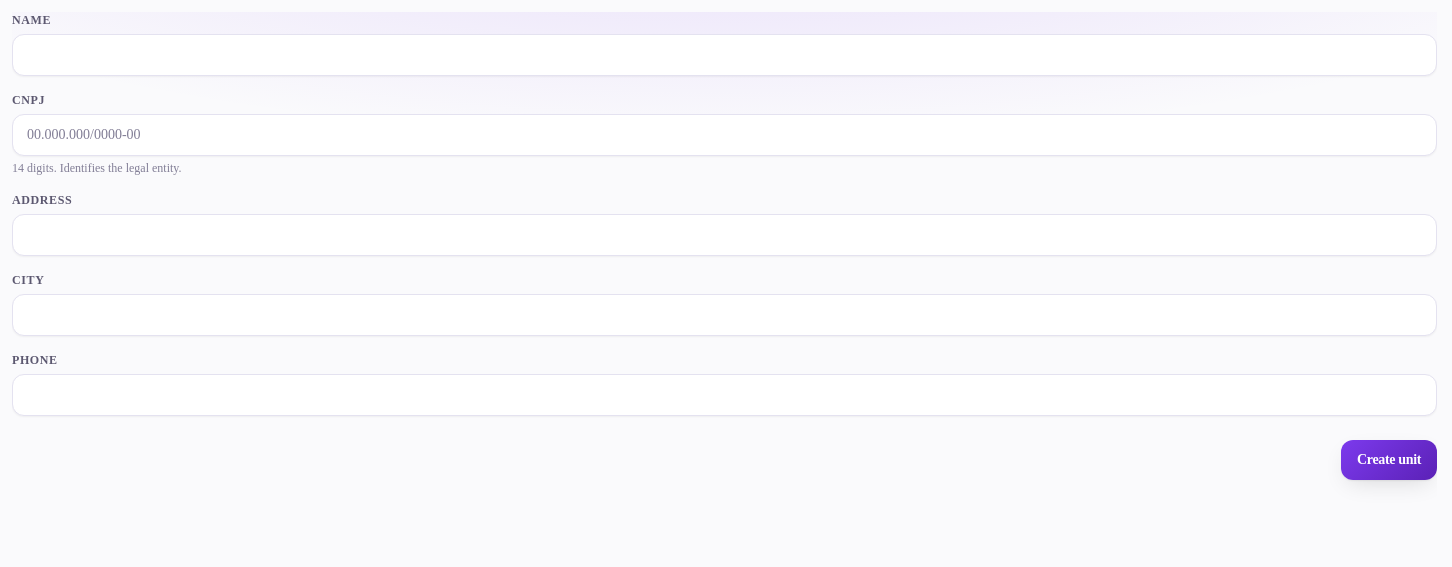
Test: BusinessUnitForm (create) › rejects a CNPJ without 14 digits
In the field labelled "Name": {"x": 724, "y": 55} [12,34,1437,76], type "Downtown"
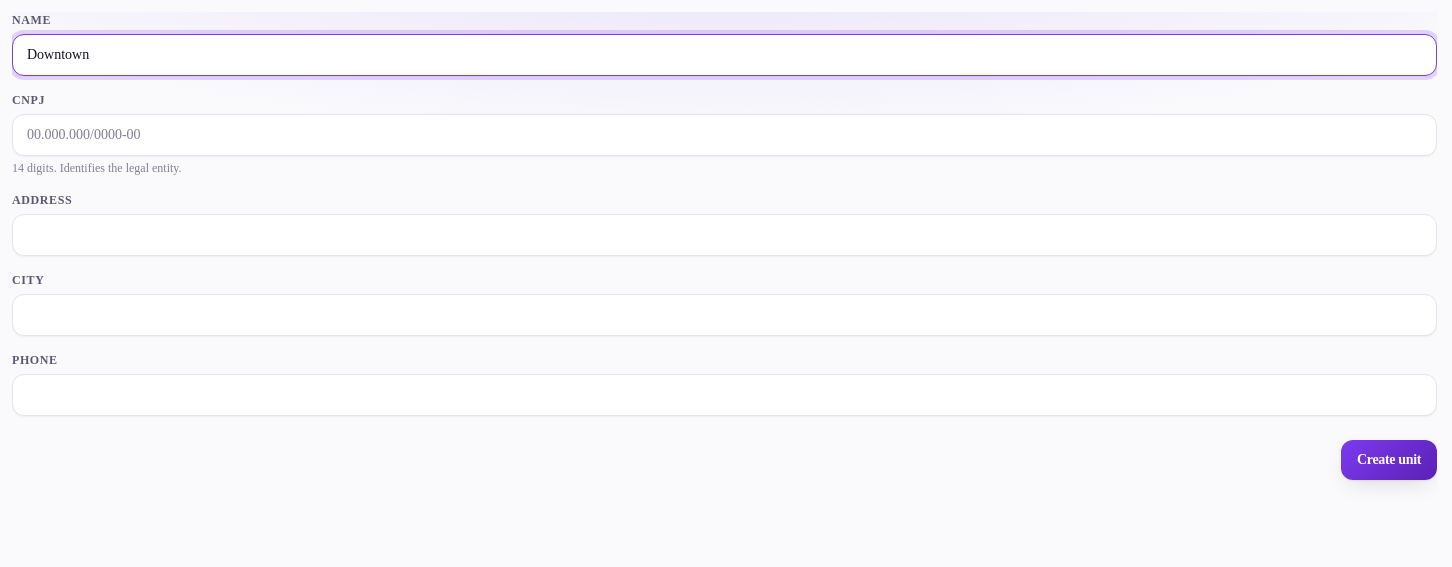
In the field labelled "CNPJ": {"x": 724, "y": 135} [12,114,1437,156], type "123"
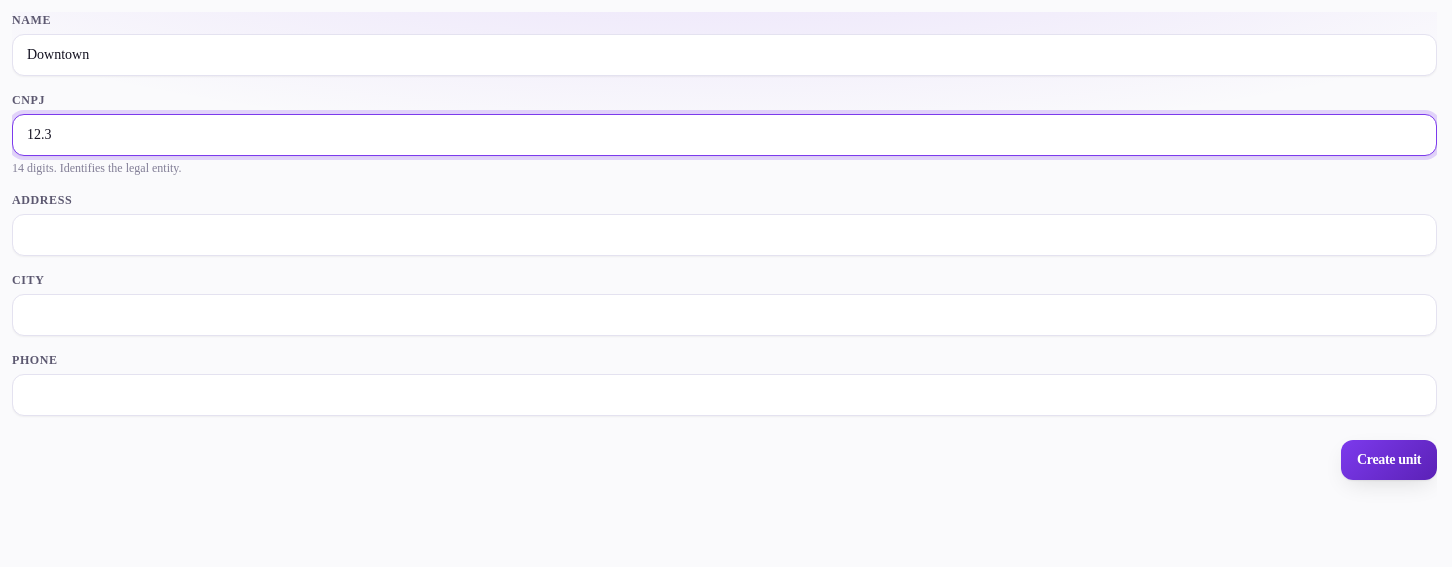
In the field labelled "Address": {"x": 724, "y": 235} [12,214,1437,256], type "Main St 1"
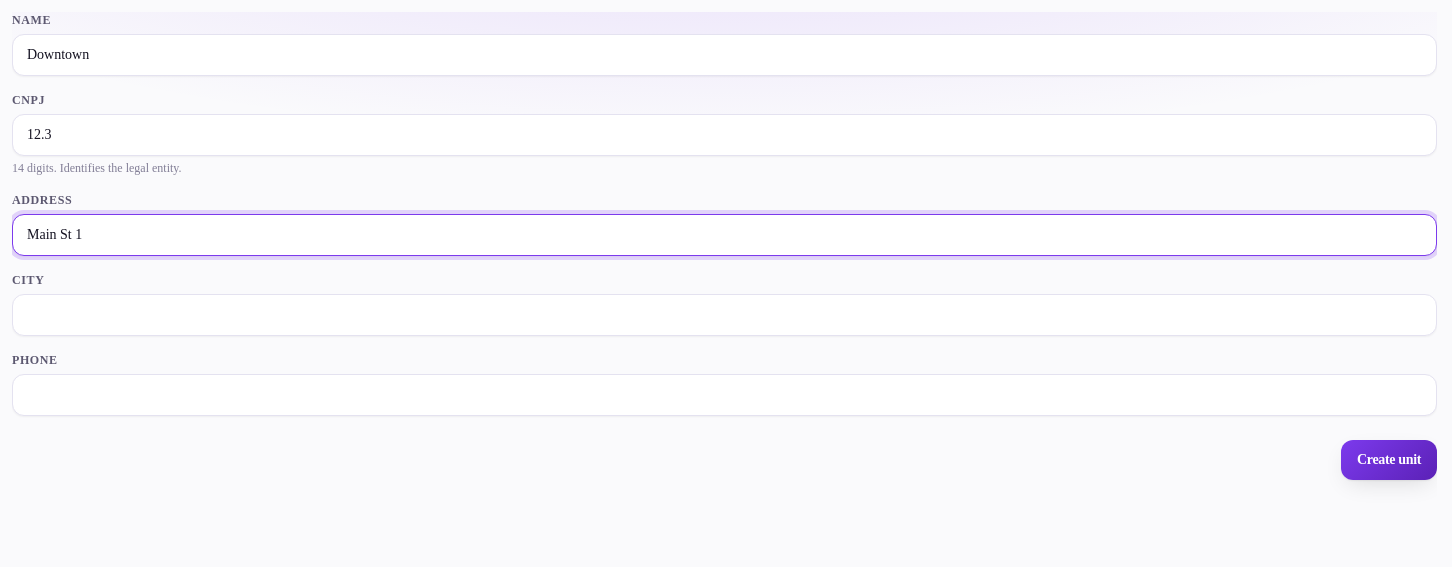
In the field labelled "City": {"x": 724, "y": 315} [12,294,1437,336], type "Metropolis"
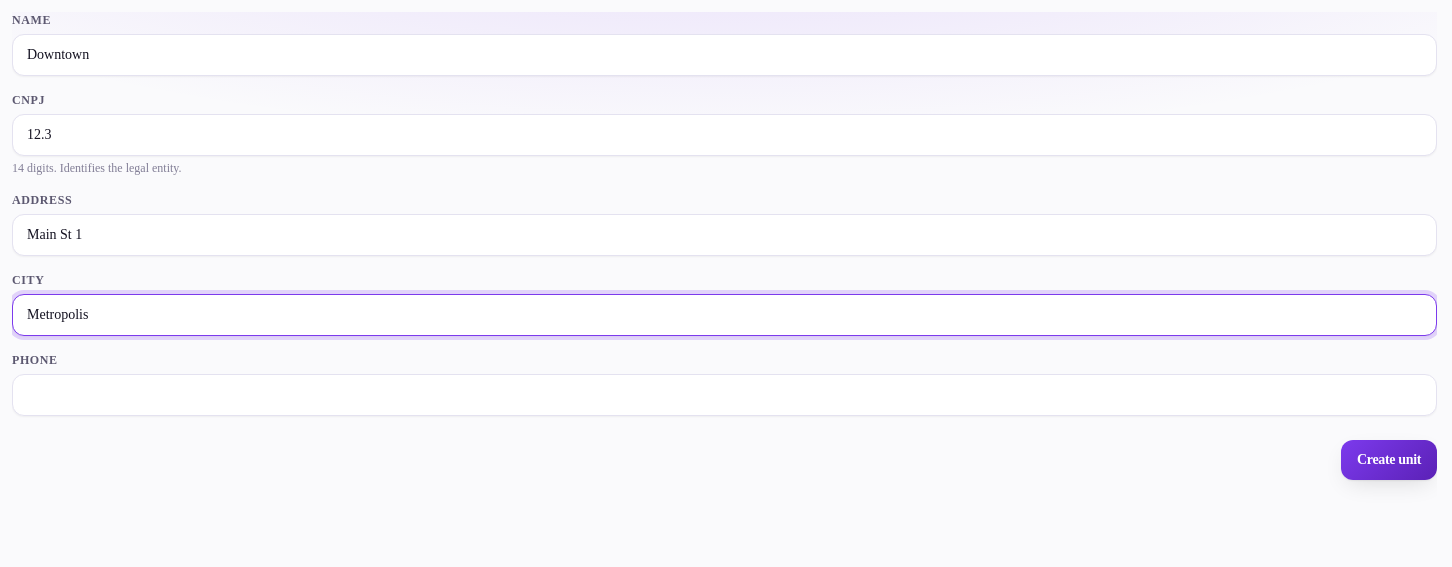
In the field labelled "Phone": {"x": 724, "y": 395} [12,374,1437,416], type "1133334444"
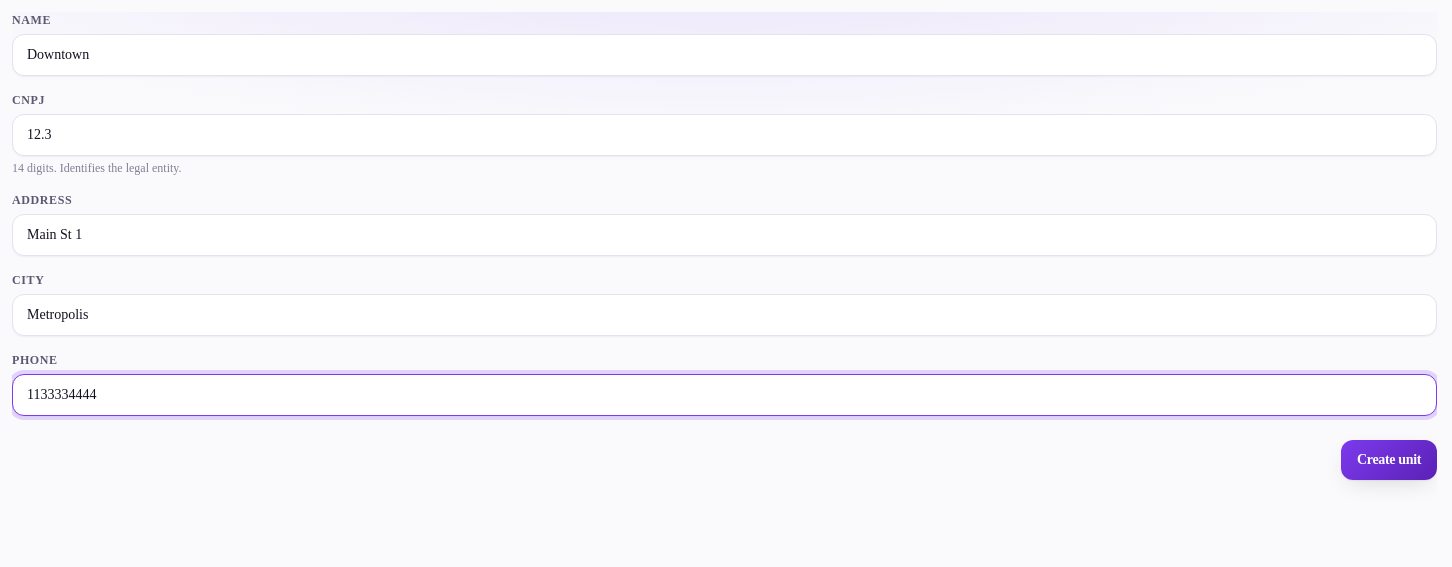
Click the button "Create unit": {"x": 1389, "y": 460} [1341,440,1437,480]
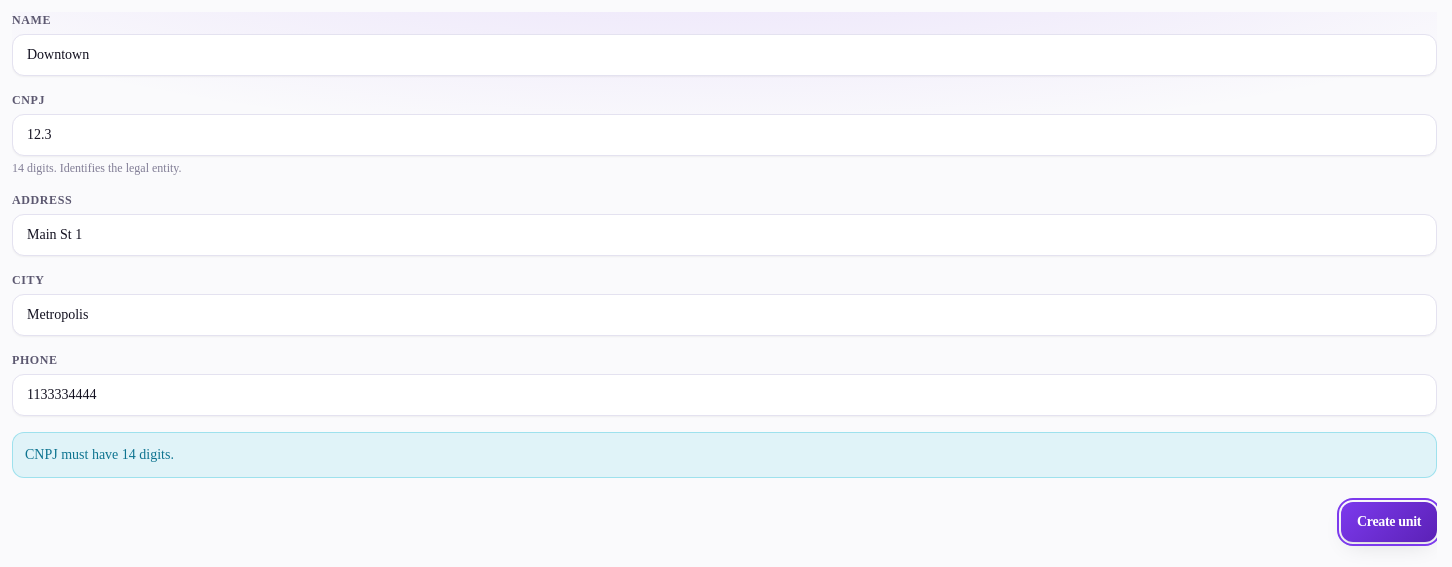
Check: the message shows "CNPJ must have 14 digits", box [25,447,174,462]
